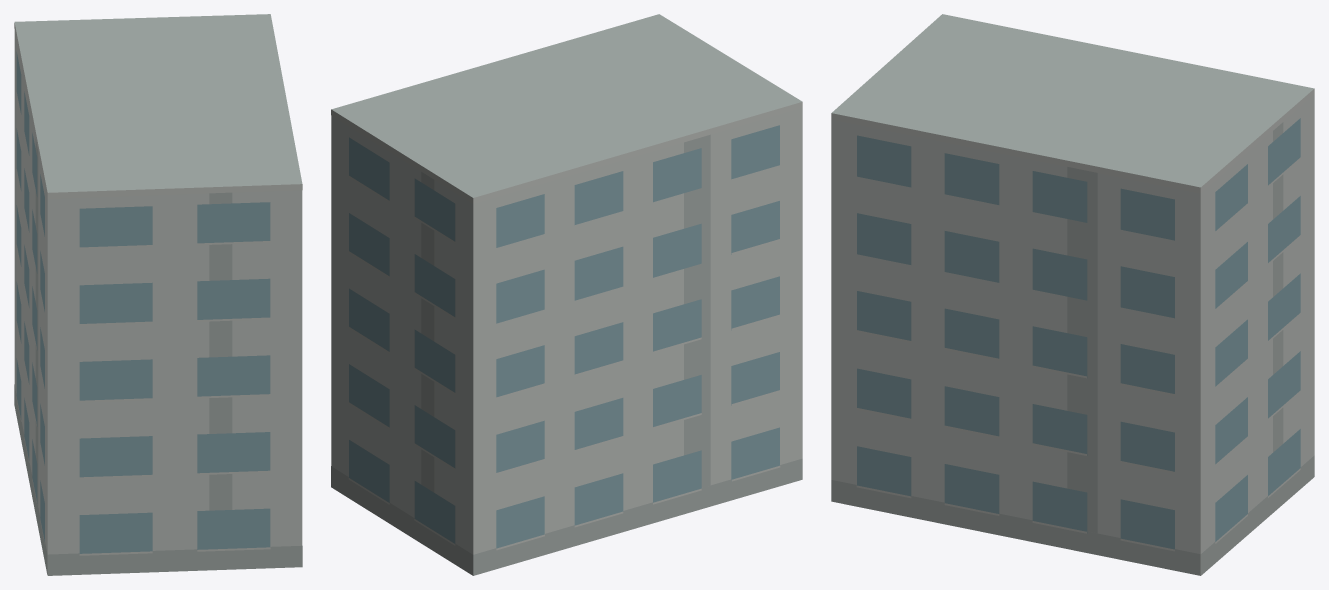
File: survey-upis-32906518.glb
3 renders of one model, left to right at view 1: azimuth 30°, elevation 25°; view 2: azimuth 150°, elevation 25°; view 3: azimuth 270°, elevation 25°, orthographic. The views are drawn at different scales.
Visible parts, largest first — view 1: survey-upis-32906518.tmp; view 2: survey-upis-32906518.tmp; view 3: survey-upis-32906518.tmp.
Part boxes in pixels (bbox=[...]): survey-upis-32906518.tmp: bbox=[14, 14, 302, 575]; survey-upis-32906518.tmp: bbox=[331, 14, 802, 575]; survey-upis-32906518.tmp: bbox=[831, 14, 1314, 575].
Size of the model in its own units: 14.66 by 15.3 by 17.26.
